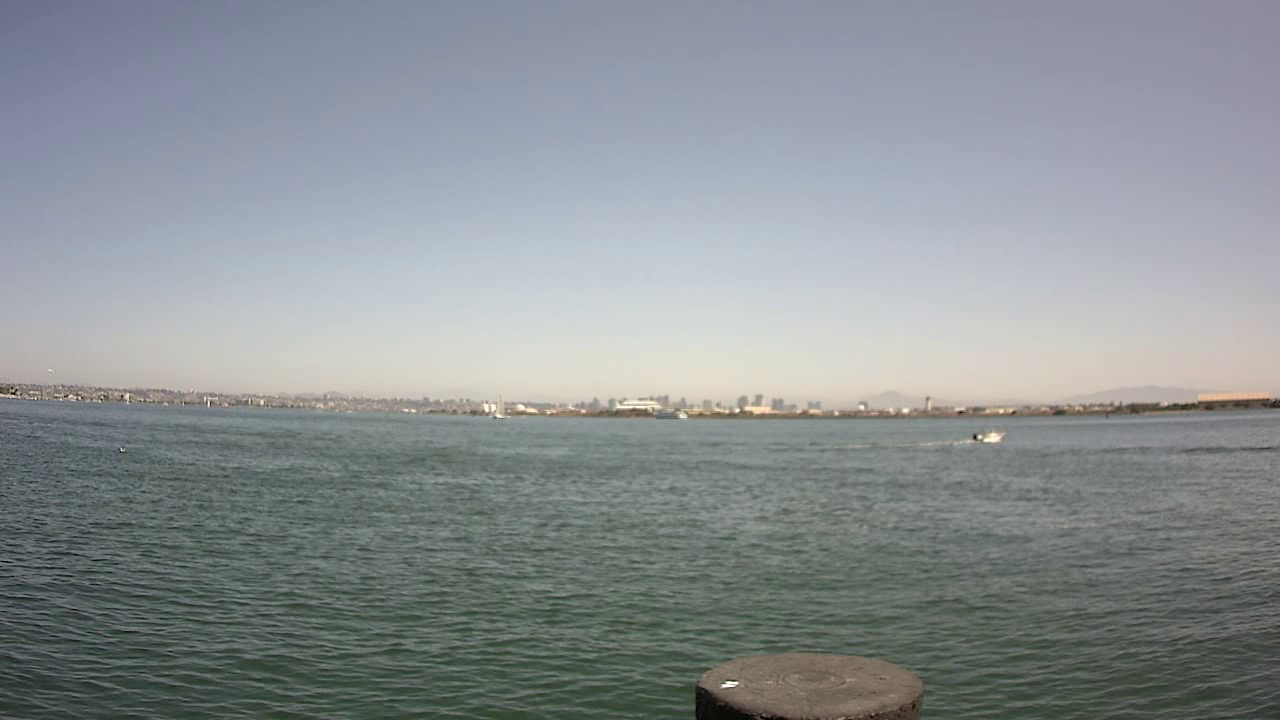target: (966, 424, 1018, 451)
